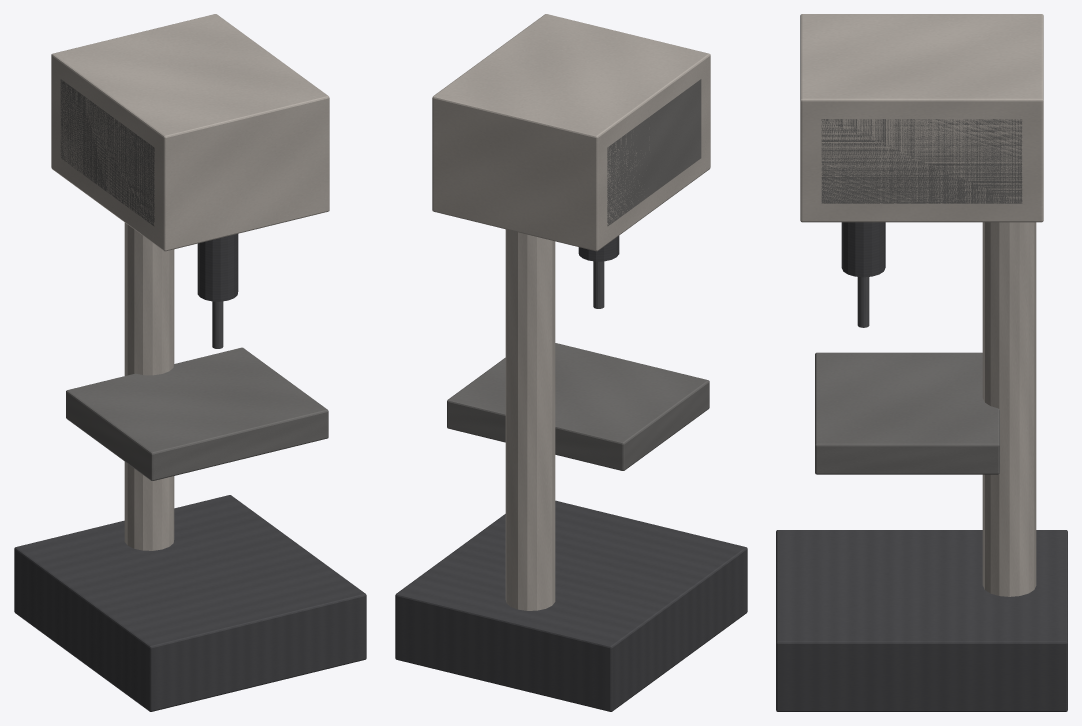
File: drill_press.glb
The picture shows the model from 3 angles, left to right: view 1: azimuth 30°, elevation 25°; view 2: azimuth 150°, elevation 25°; view 3: azimuth 270°, elevation 25°; orthographic projection. The views are drawn at different scales.
Parts seen in each view (by area): view 1: base.014, head, work_table, column.001, head_trim, chuck, drill_bit; view 2: base.014, head, column.001, work_table, head_trim, chuck, drill_bit; view 3: base.014, head, work_table, column.001, head_trim.001, chuck, drill_bit.
Part boxes in pixels (x1=…): base.014: x1=14, y1=495, x2=366, y2=711; head: x1=51, y1=14, x2=329, y2=251; work_table: x1=66, y1=347, x2=328, y2=480; column.001: x1=124, y1=222, x2=174, y2=550; head_trim: x1=60, y1=79, x2=154, y2=226; chuck: x1=197, y1=234, x2=238, y2=301; drill_bit: x1=212, y1=301, x2=223, y2=348; base.014: x1=395, y1=500, x2=747, y2=711; head: x1=432, y1=14, x2=710, y2=251; column.001: x1=505, y1=229, x2=555, y2=610; work_table: x1=447, y1=343, x2=709, y2=470; head_trim: x1=607, y1=79, x2=701, y2=226; chuck: x1=578, y1=236, x2=619, y2=261; drill_bit: x1=593, y1=261, x2=604, y2=308; base.014: x1=776, y1=530, x2=1067, y2=711; head: x1=800, y1=14, x2=1043, y2=222; work_table: x1=815, y1=352, x2=999, y2=474; column.001: x1=982, y1=222, x2=1036, y2=596; head_trim.001: x1=821, y1=119, x2=1022, y2=203; chuck: x1=841, y1=222, x2=885, y2=277; drill_bit: x1=857, y1=277, x2=869, y2=327.
Bounding box in the file's own units: 0.55 × 1.36 × 0.6.
Materials: 4 (4 with a texture image).
